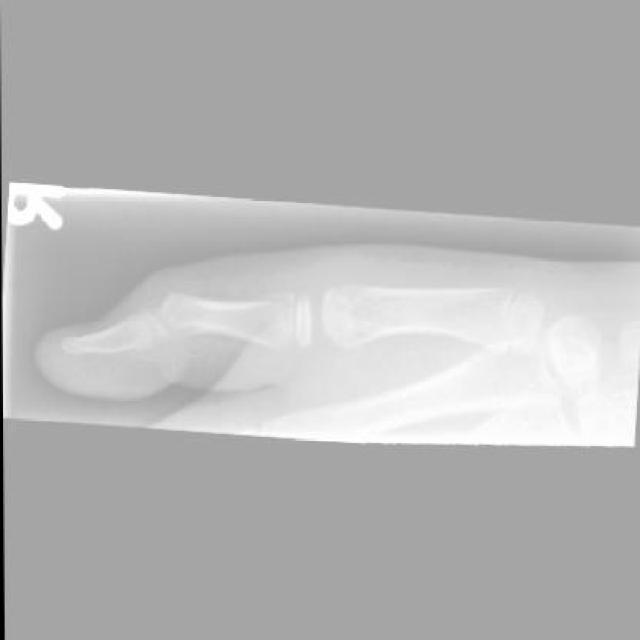Fracture: (261, 286, 291, 308)
